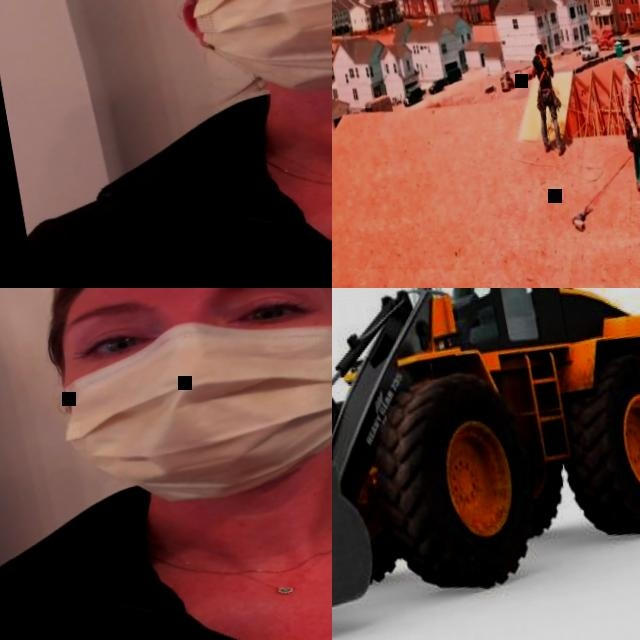Hardhat: (624, 53, 638, 75), (532, 38, 544, 52)
Mask: (51, 307, 332, 522), (169, 0, 332, 108)
NO-Hardhat: (36, 288, 332, 315)
NO-Mask: (629, 73, 635, 80)
NO-Safety Vest: (38, 42, 332, 288), (0, 457, 332, 640), (533, 53, 553, 89)
Person: (0, 288, 332, 640), (0, 0, 332, 288), (525, 37, 568, 158), (613, 53, 640, 192)
machinery: (332, 288, 640, 640), (596, 29, 616, 51)
vehicle: (402, 85, 425, 107), (579, 40, 601, 60), (443, 66, 464, 84), (427, 77, 446, 94)
